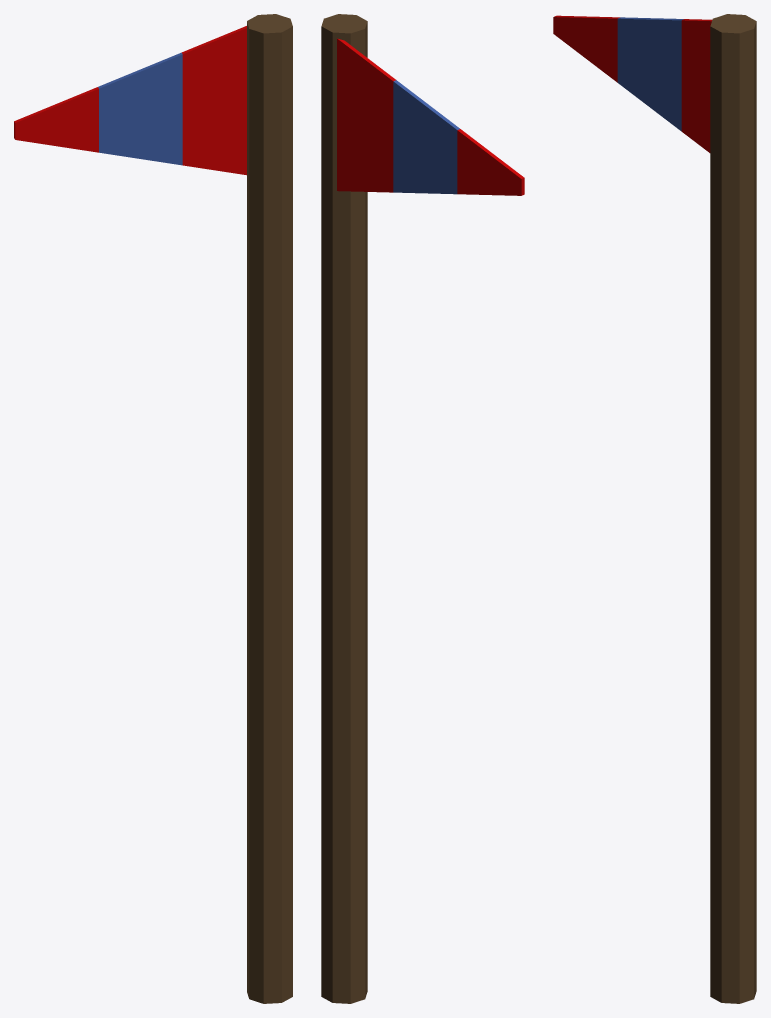
Rendered from finish flag.fbx.
The picture shows the model from 3 angles, left to right: view 1: azimuth 30°, elevation 25°; view 2: azimuth 150°, elevation 25°; view 3: azimuth 330°, elevation 25°; orthographic projection.
Parts seen in each view (by area): view 1: pCube2; view 2: pCube2; view 3: pCube2.
Part boxes in pixels (bbox=[...]): pCube2: bbox=[14, 14, 292, 1003]; pCube2: bbox=[321, 14, 524, 1003]; pCube2: bbox=[553, 14, 756, 1003].
Bounding box in the file's own units: 62.1 × 242 × 23.22.
